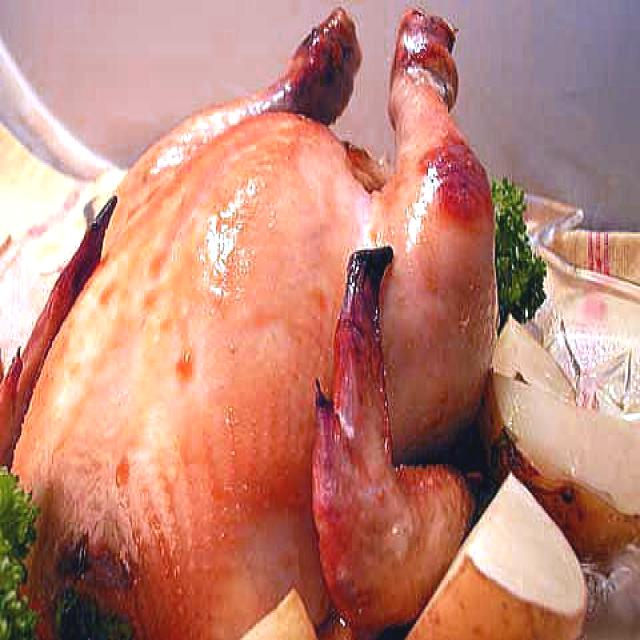Chicken: (14, 0, 497, 638)
